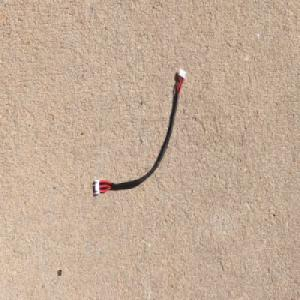Wire: (93, 67, 186, 196)
